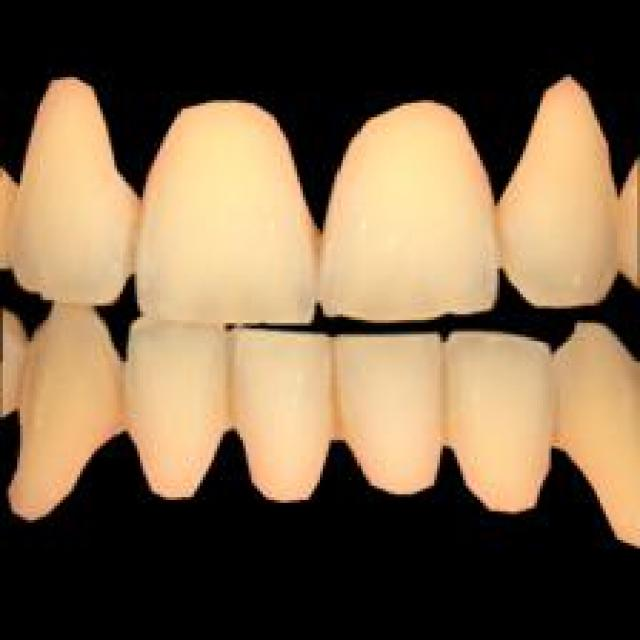1: (137, 86, 317, 326), (317, 88, 486, 323), (494, 69, 617, 308), (14, 68, 137, 303), (3, 300, 123, 523), (123, 311, 240, 500), (231, 320, 346, 500), (452, 323, 557, 514), (328, 326, 443, 494), (554, 317, 637, 543)
karies: (486, 200, 520, 266), (123, 194, 148, 269), (306, 220, 331, 271), (323, 386, 346, 440), (220, 357, 237, 423), (112, 377, 132, 426), (543, 411, 571, 446)
